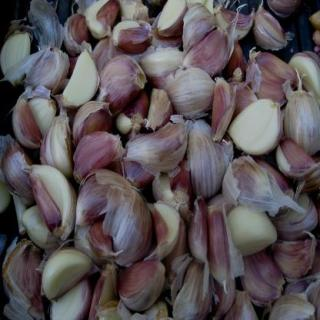Bawang Putih: (231, 100, 284, 156), (42, 250, 93, 301), (229, 206, 277, 258), (64, 52, 100, 109)
